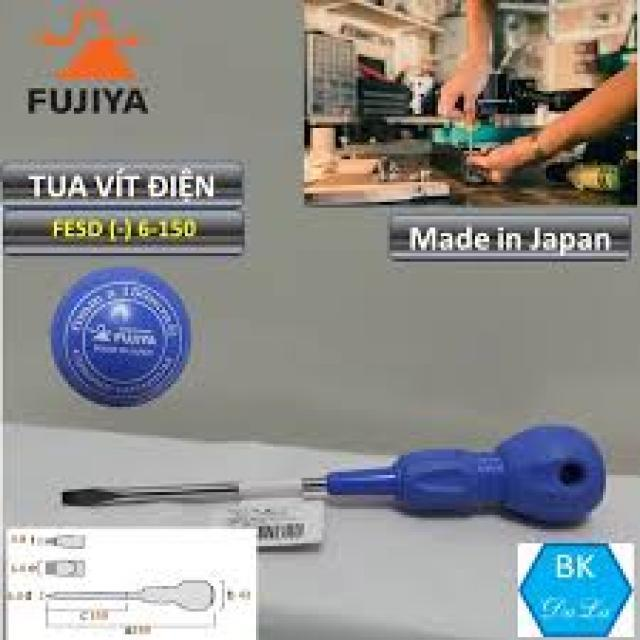screwdriver: (58, 422, 610, 528)
